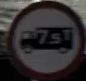Heavy Vehicles: (8, 4, 77, 69)
